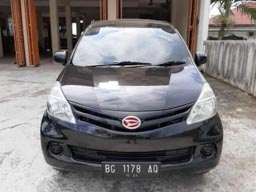plat: (104, 163, 162, 173)
